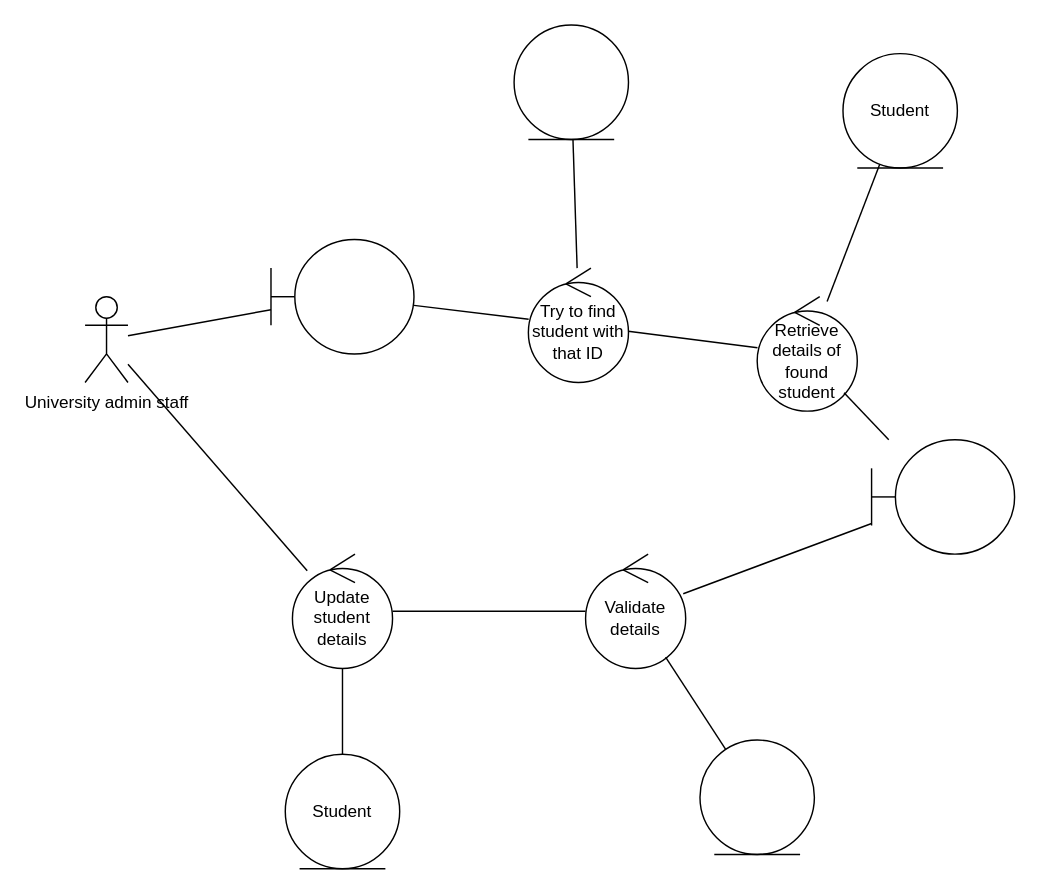
The diagram is 1040 pixels wide and 894 high, and some of its shapes have lost their labels. Each missing label, with the centre of its shape:
"StudentDetailsValidator" belongs at (756,796).
"UI to edit student details" belongs at (942,496).
"UI to enter student ID" belongs at (342,296).
"University" belongs at (570,81).
